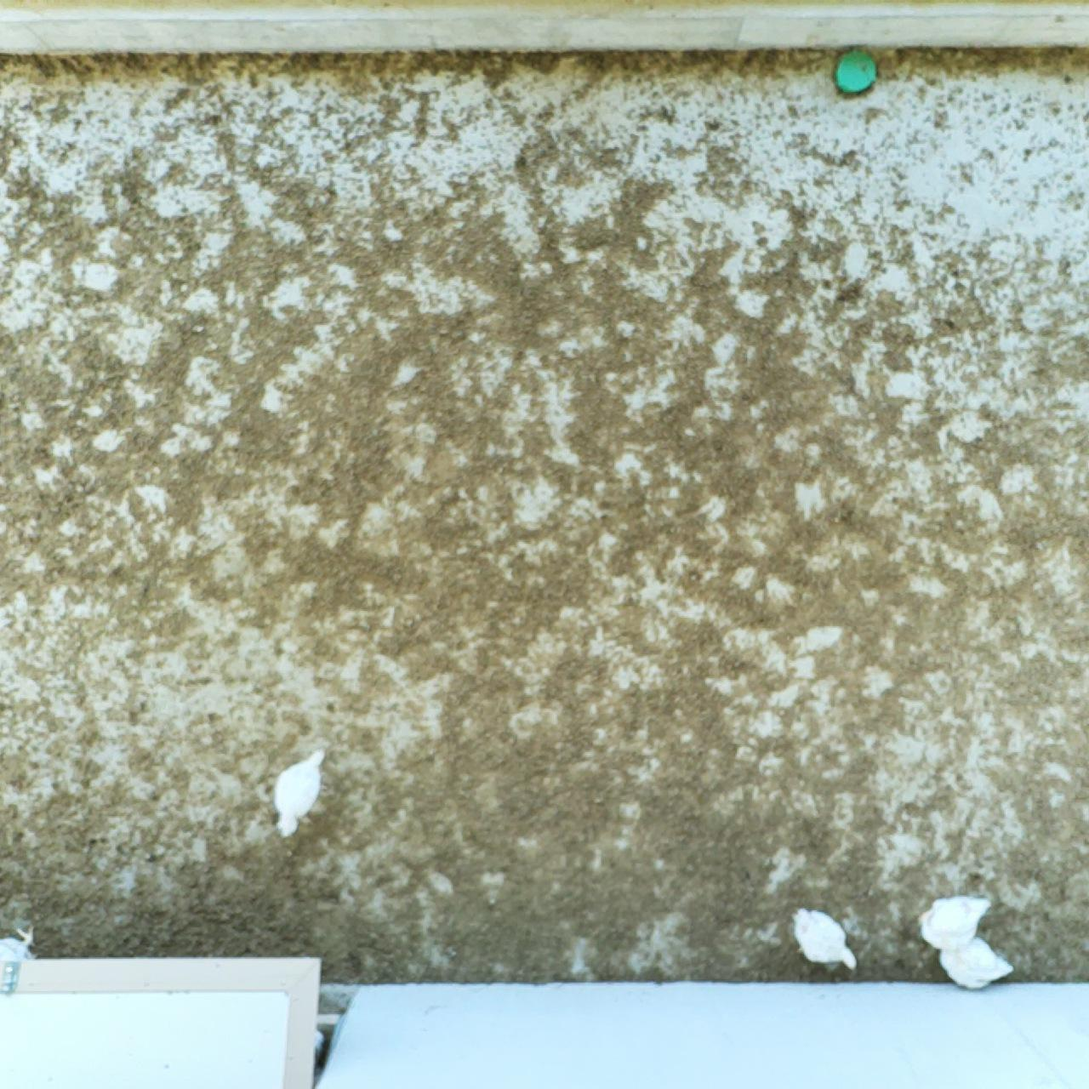chicken: (269, 740, 332, 842), (912, 889, 997, 954), (790, 906, 865, 972), (935, 935, 1015, 994), (0, 919, 41, 964)
